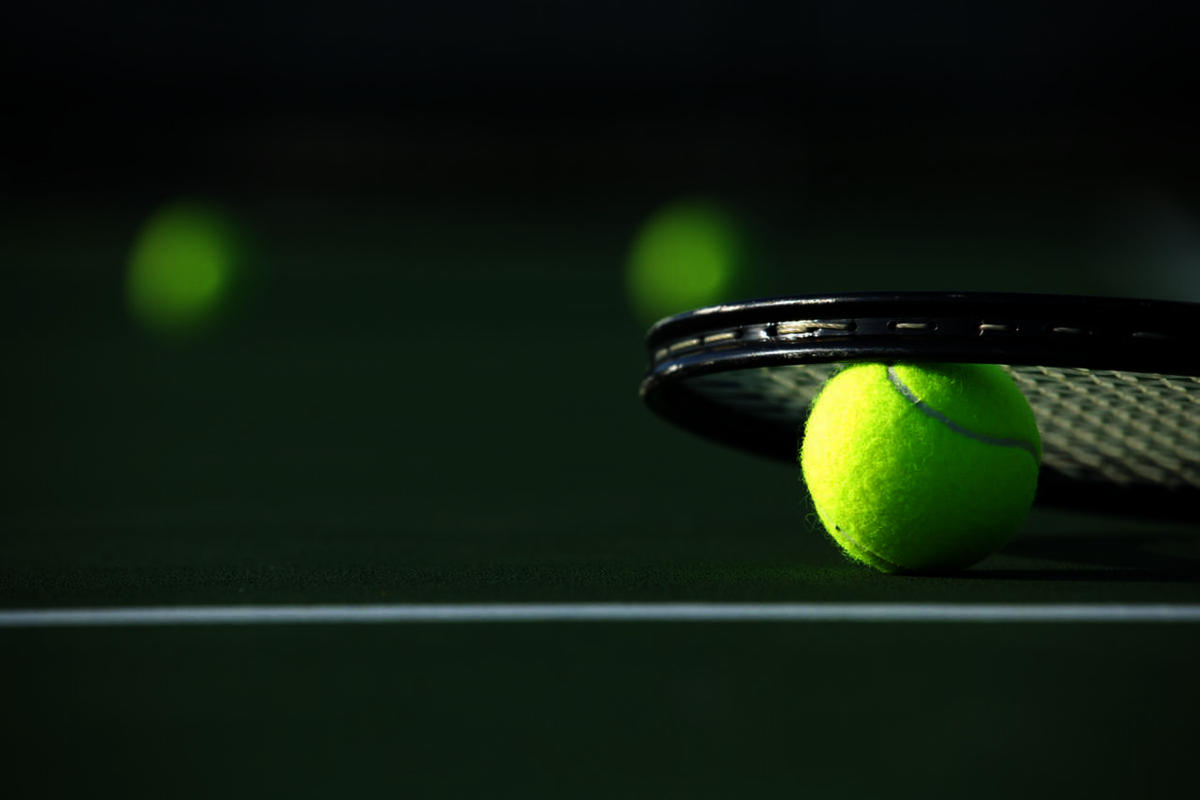tennis_ball: (805, 354, 1039, 574), (118, 215, 237, 325), (625, 210, 736, 311)
